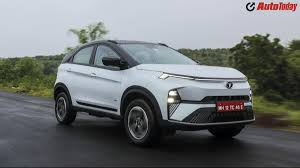Tata Nexon: (52, 39, 256, 151)
